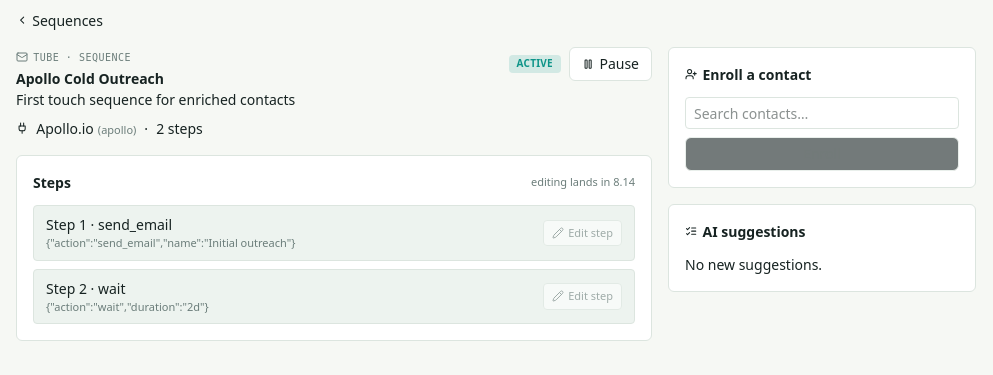
Test: Sequence detail — enroll › renders a role='alert' when the enroll mutation rejects
Type "Jane" into the search field with test id "tube-sequence-enroll-input" at [822, 113], box x1=685 y1=97 x2=959 y2=129
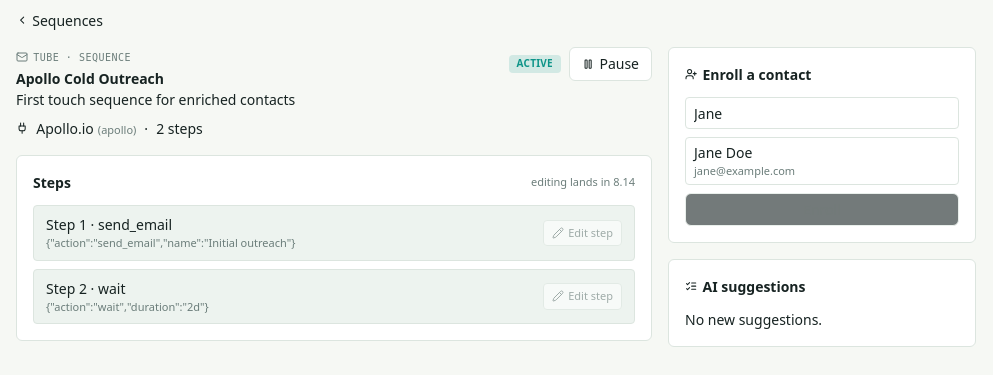
Click the option "Jane Doe jane@example.com" at [723, 152], box x1=686 y1=138 x2=958 y2=184
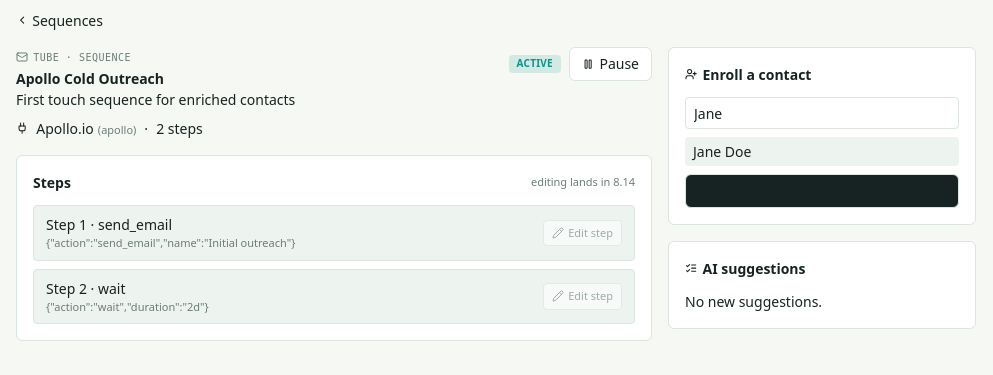
Click the button with test id "tube-sequence-enroll-submit" at [822, 191], box x1=685 y1=174 x2=959 y2=208
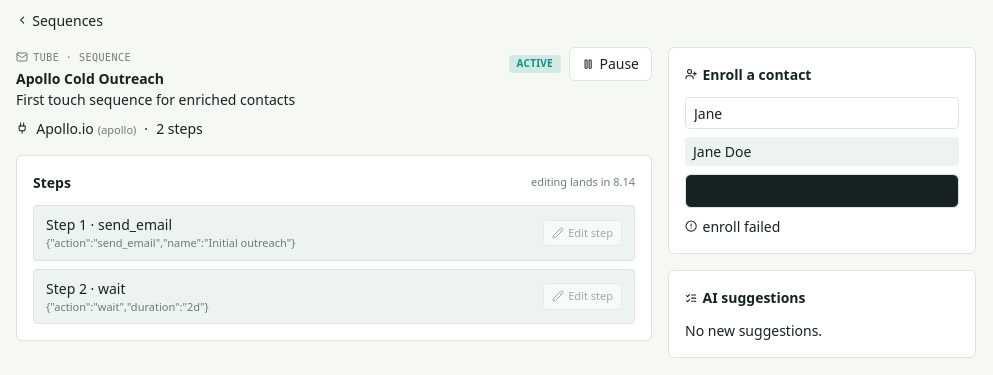
Expected: the message reads "enroll failed", x1=702 y1=216 x2=780 y2=236
